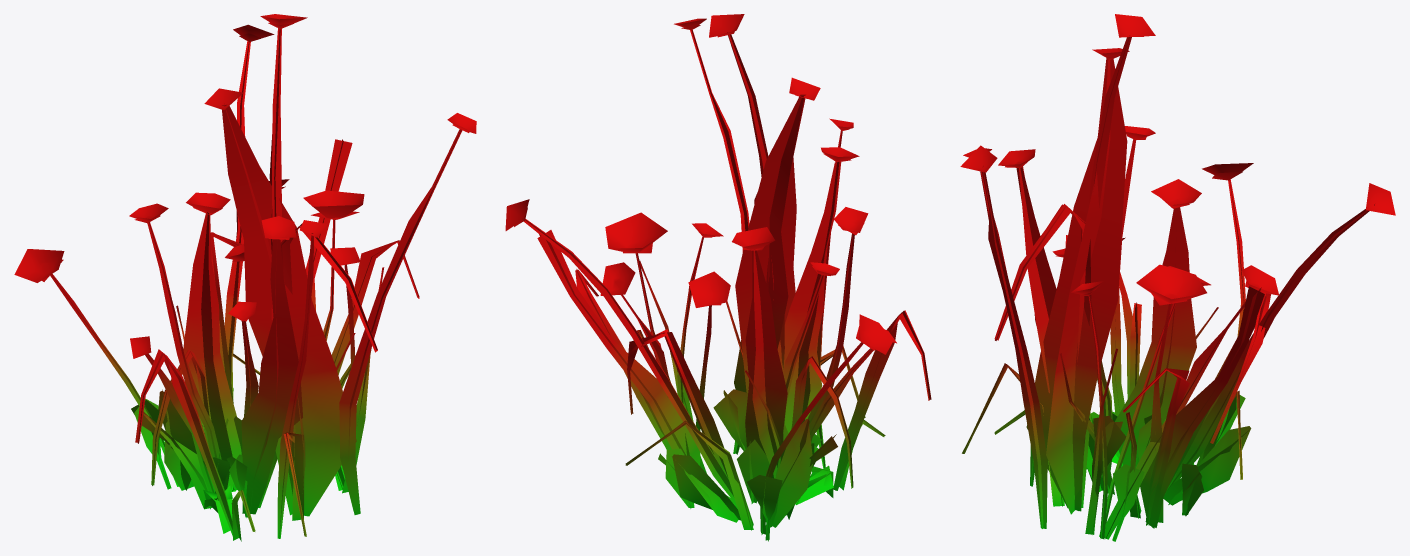
File: White Everlasting_LOD3_Var3_ucvobbbia.fbx
3 renders of one model, left to right at view 1: azimuth 30°, elevation 25°; view 2: azimuth 150°, elevation 25°; view 3: azimuth 270°, elevation 25°, orthographic. The views are drawn at different scales.
Parts seen in each view (by area): view 1: _fa60_Var3_LOD3; view 2: _fa60_Var3_LOD3; view 3: _fa60_Var3_LOD3.
Boxes of the visible parts, x1,y1,x2,y2 form: _fa60_Var3_LOD3: (14,14,476,541); _fa60_Var3_LOD3: (505,14,931,541); _fa60_Var3_LOD3: (960,14,1395,541).
Bounding box in the file's own units: 46.4 × 62.06 × 48.83.
